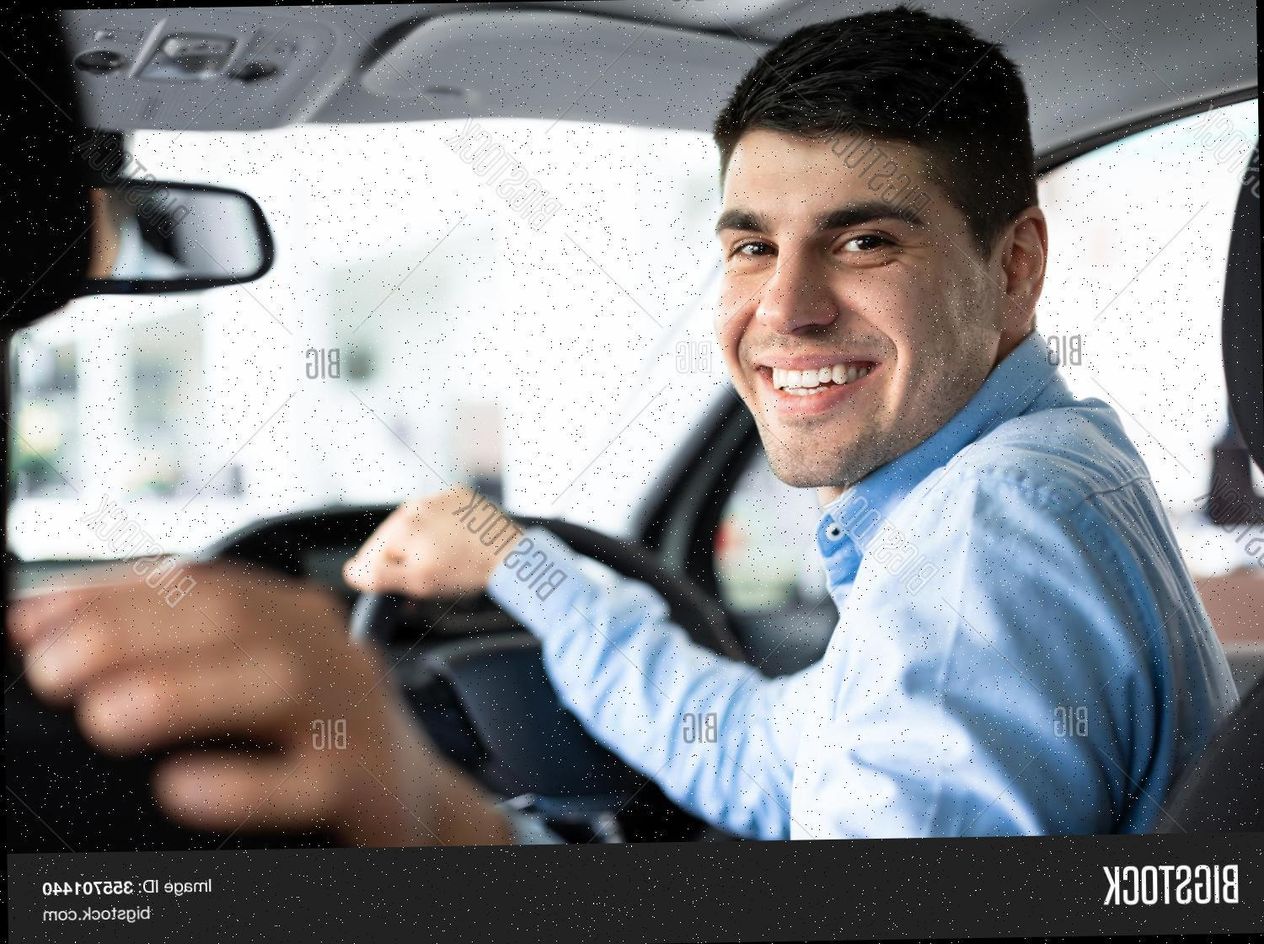Awake: (695, 40, 1028, 498)
